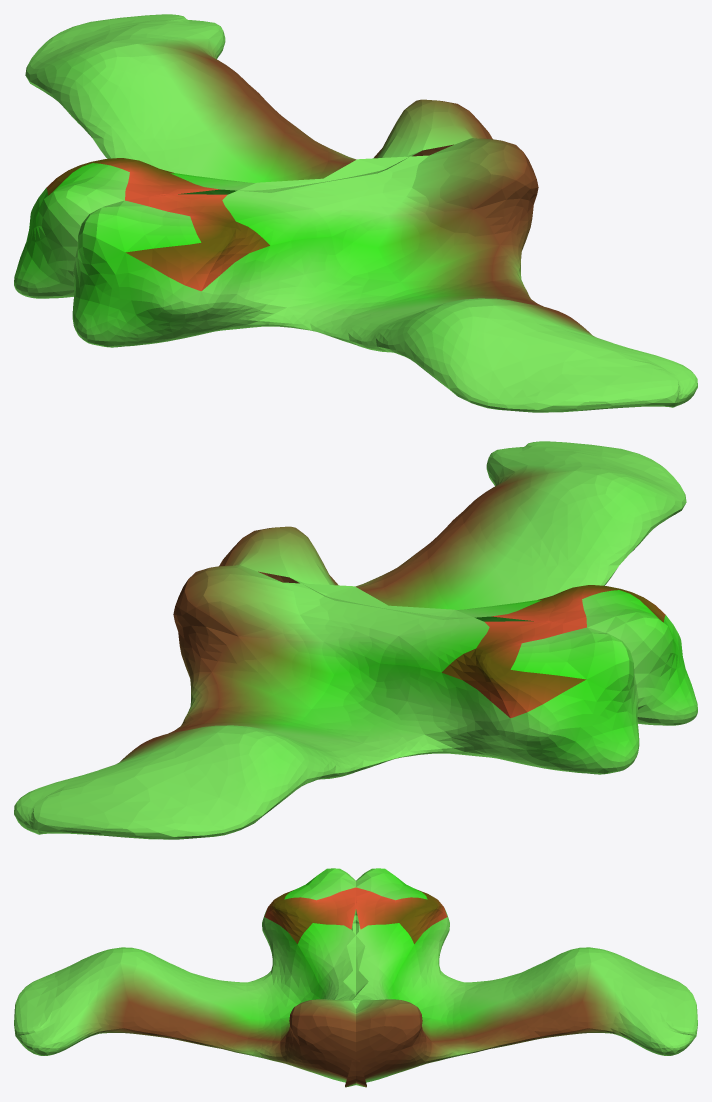
The picture shows the model from 3 angles, top to bottom: view 1: azimuth 30°, elevation 25°; view 2: azimuth 150°, elevation 25°; view 3: azimuth 270°, elevation 25°; orthographic projection. The views are drawn at different scales.
Parts seen in each view (by area): view 1: Cube; view 2: Cube; view 3: Cube.
Boxes of the visible parts, bbox=[...] form: Cube: bbox=[14, 14, 697, 412]; Cube: bbox=[14, 441, 697, 839]; Cube: bbox=[14, 868, 697, 1087].
Size of the model in its own units: 4.31 by 8.5 by 1.36.
